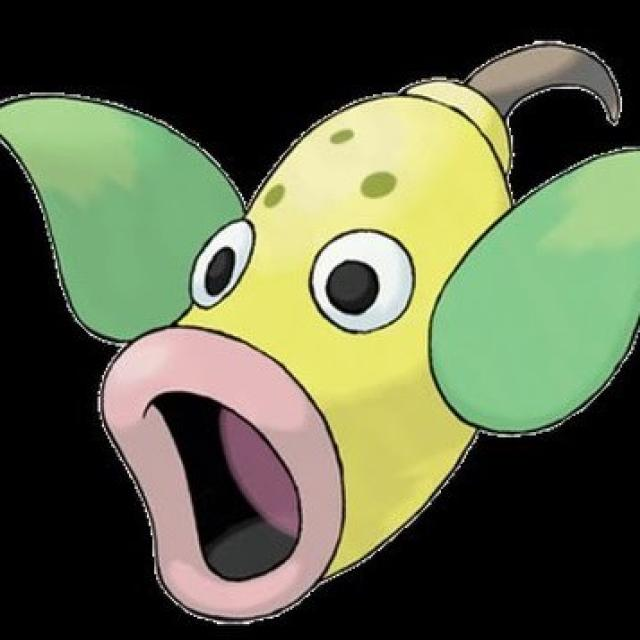Weepinbell: (93, 72, 514, 614)
